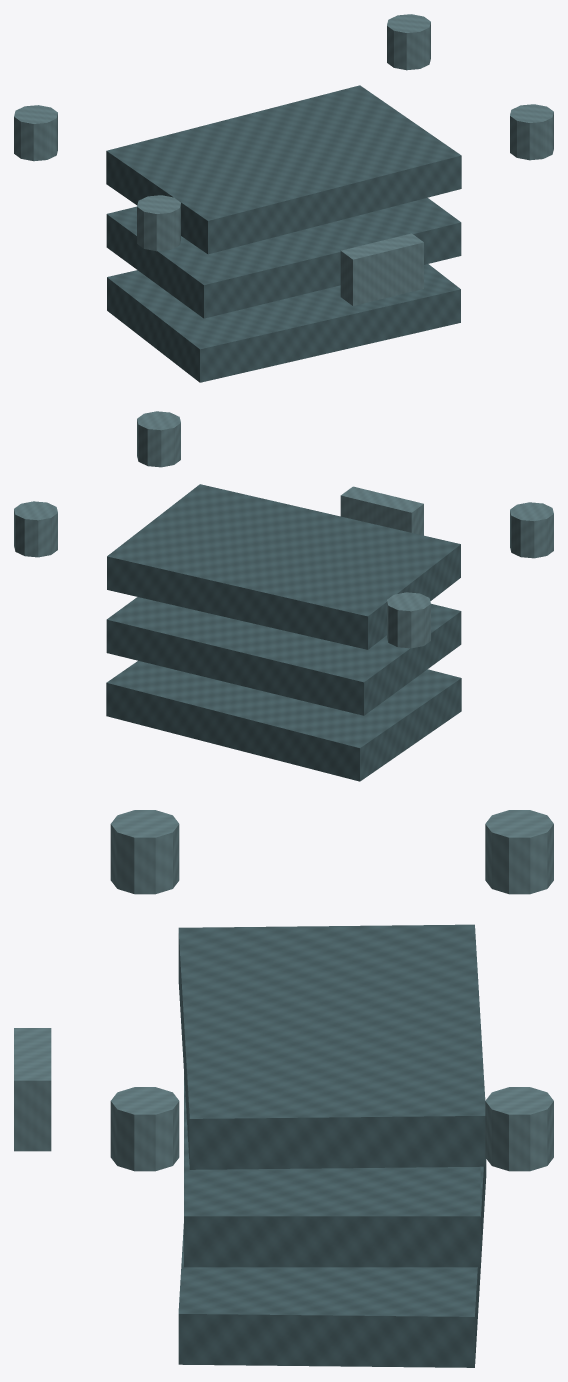
File: underworld-refined-flowstone-plate.glb
3 renders of one model, top to bottom at view 1: azimuth 30°, elevation 25°; view 2: azimuth 150°, elevation 25°; view 3: azimuth 270°, elevation 25°, orthographic. The views are drawn at different scales.
Visible parts, largest first — view 1: plate-2, plate-0, plate-1, maker-key, rivet--1-1, rivet--1--1, rivet-1--1, rivet-1-1; view 2: plate-2, plate-0, plate-1, maker-key, rivet--1--1, rivet--1-1, rivet-1-1, rivet-1--1; view 3: plate-2, plate-0, plate-1, rivet--1--1, rivet-1--1, rivet--1-1, rivet-1-1, maker-key.
Part boxes in pixels (box(x1,y1,x2,y2)): plate-2: box(106, 85, 461, 254); plate-0: box(107, 264, 460, 382); plate-1: box(106, 198, 461, 318); maker-key: box(340, 233, 423, 305); rivet--1-1: box(14, 105, 57, 161); rivet--1--1: box(137, 195, 180, 251); rivet-1--1: box(510, 104, 553, 160); rivet-1-1: box(387, 14, 430, 70); plate-2: box(107, 484, 460, 649); plate-0: box(106, 660, 461, 781); plate-1: box(106, 597, 461, 715); maker-key: box(340, 486, 423, 535); rivet--1--1: box(510, 502, 553, 558); rivet--1-1: box(387, 592, 430, 648); rivet-1-1: box(14, 501, 57, 557); rivet-1--1: box(137, 411, 180, 467); plate-2: box(178, 924, 486, 1169); plate-0: box(178, 1166, 486, 1367); plate-1: box(184, 1074, 480, 1267); rivet--1--1: box(110, 810, 179, 894); rivet-1--1: box(110, 1087, 179, 1171); rivet--1-1: box(485, 810, 553, 894); rivet-1-1: box(485, 1087, 553, 1171); maker-key: box(14, 1028, 51, 1151).
Bounding box in the file's own units: 0.2309 × 0.109 × 0.173.
2 materials, 2 textured.
